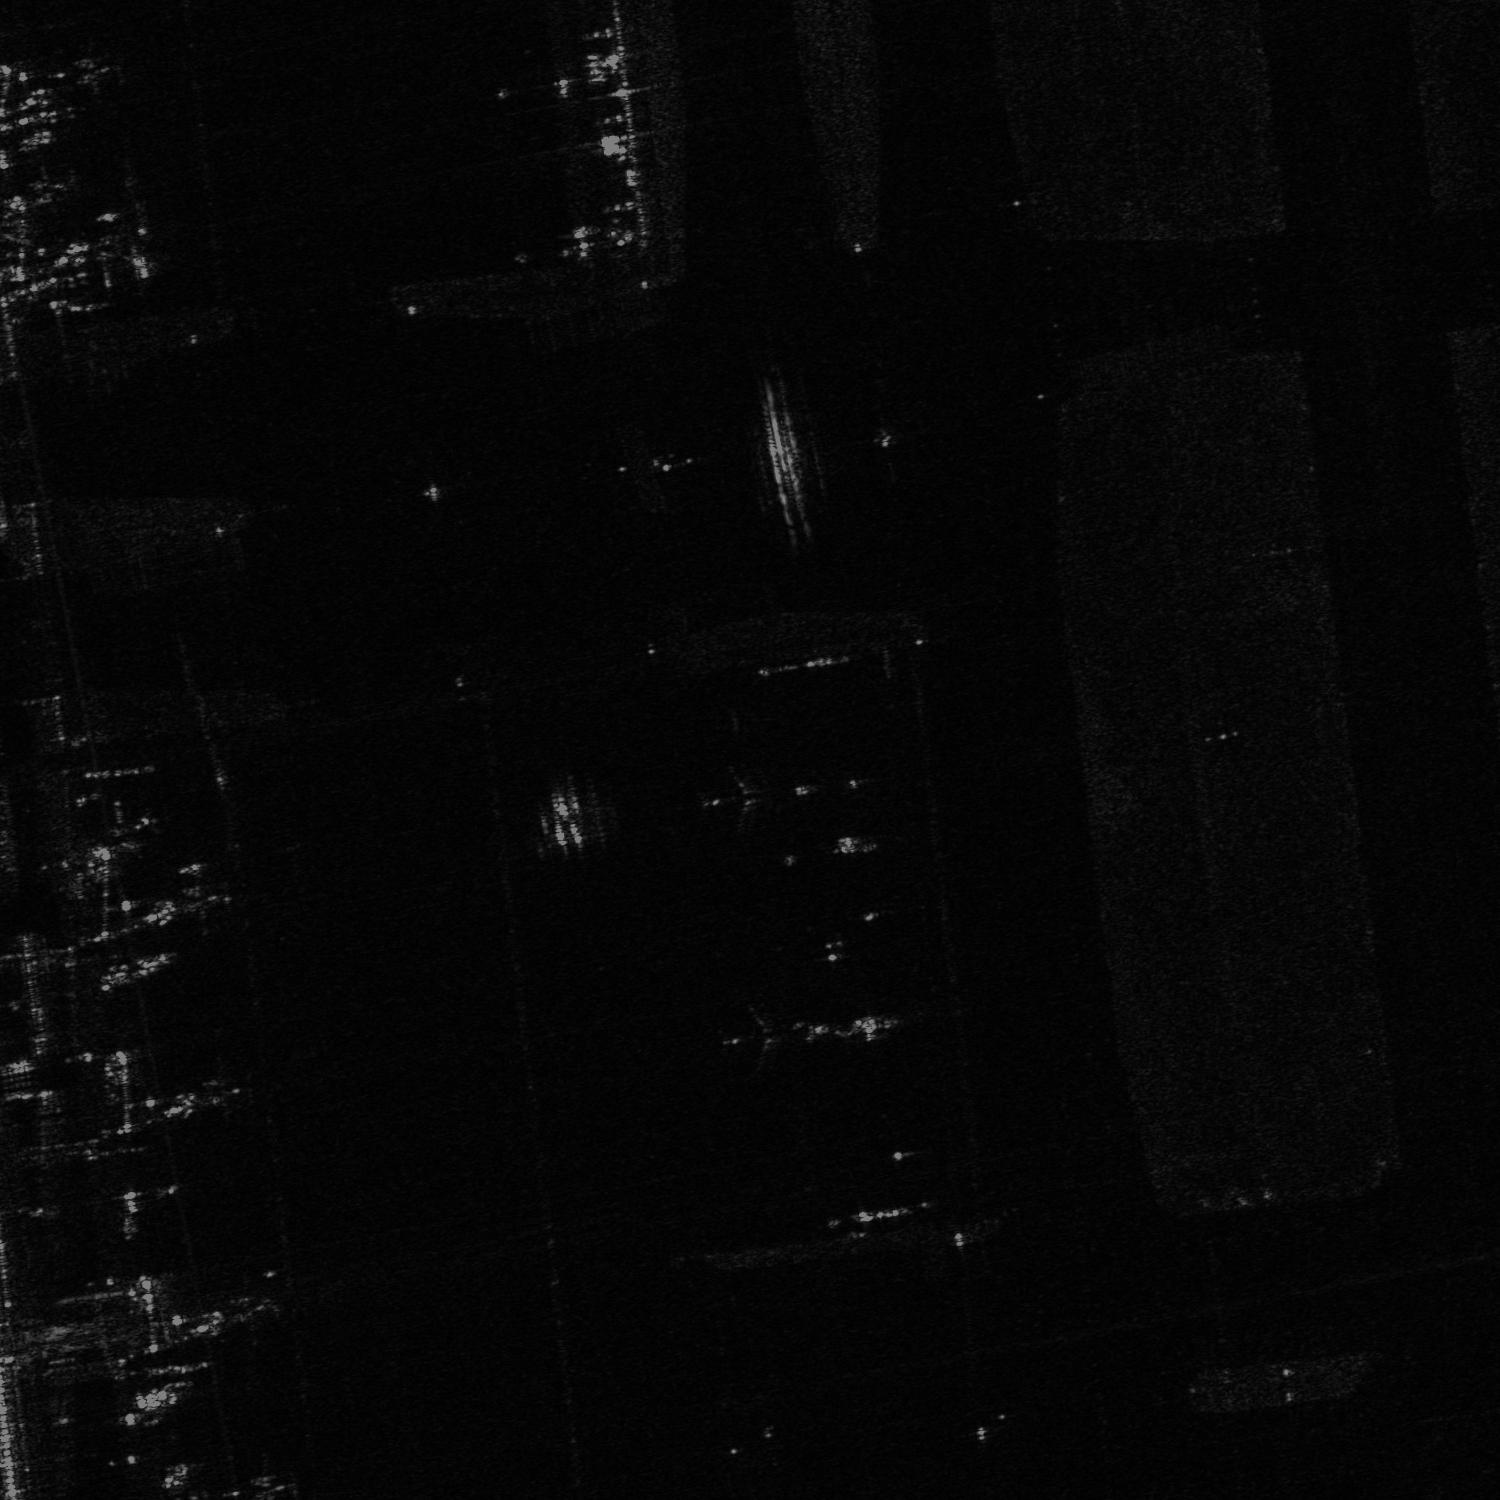Boeing737: (707, 1000, 810, 1082), (690, 755, 782, 837), (91, 227, 157, 290), (103, 799, 159, 859)
